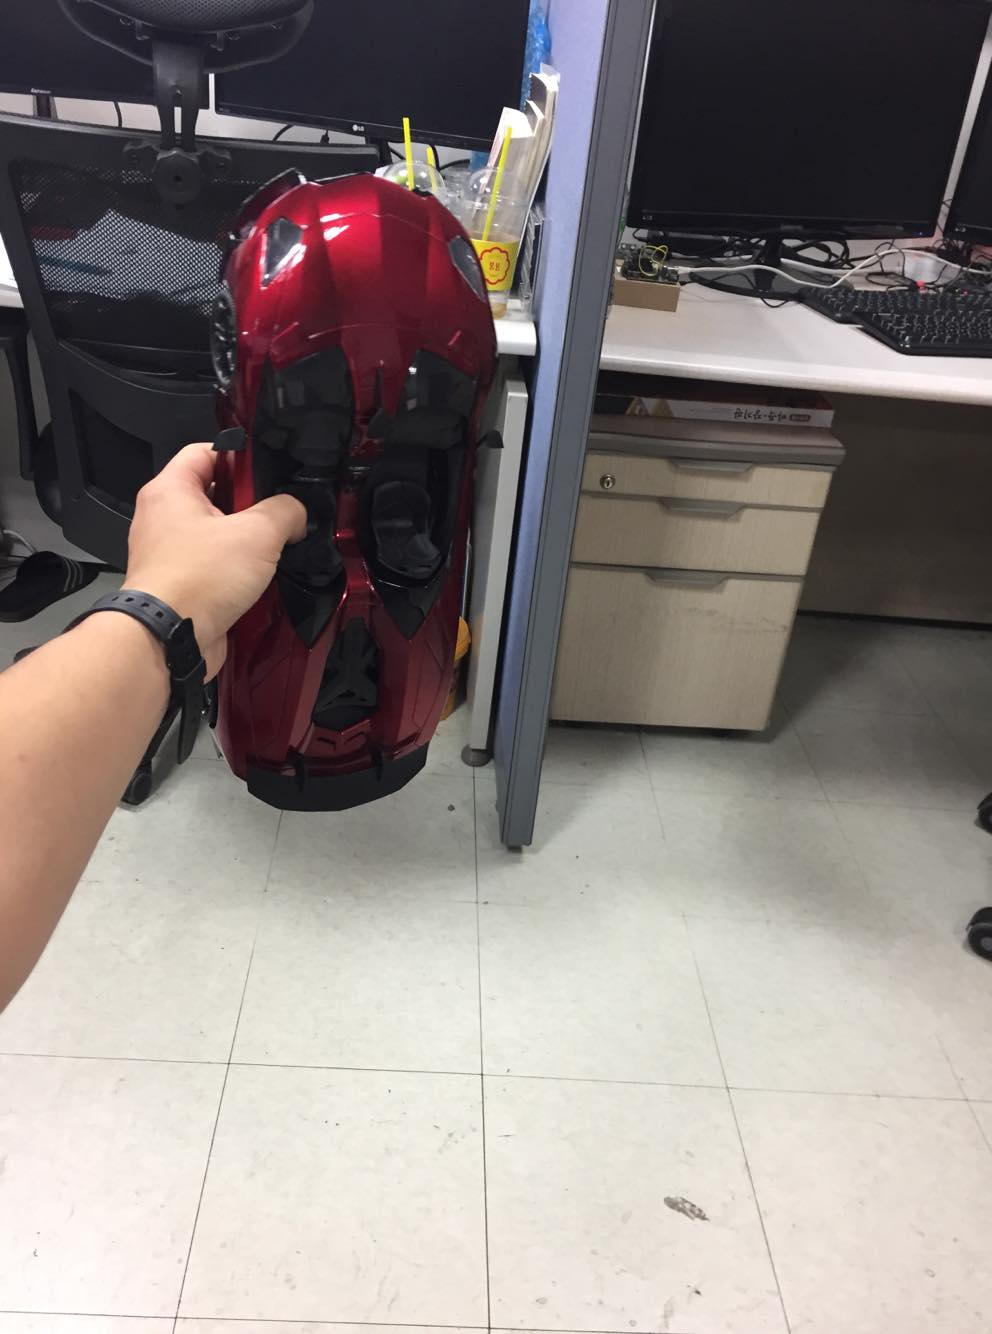car: (203, 158, 507, 838)
